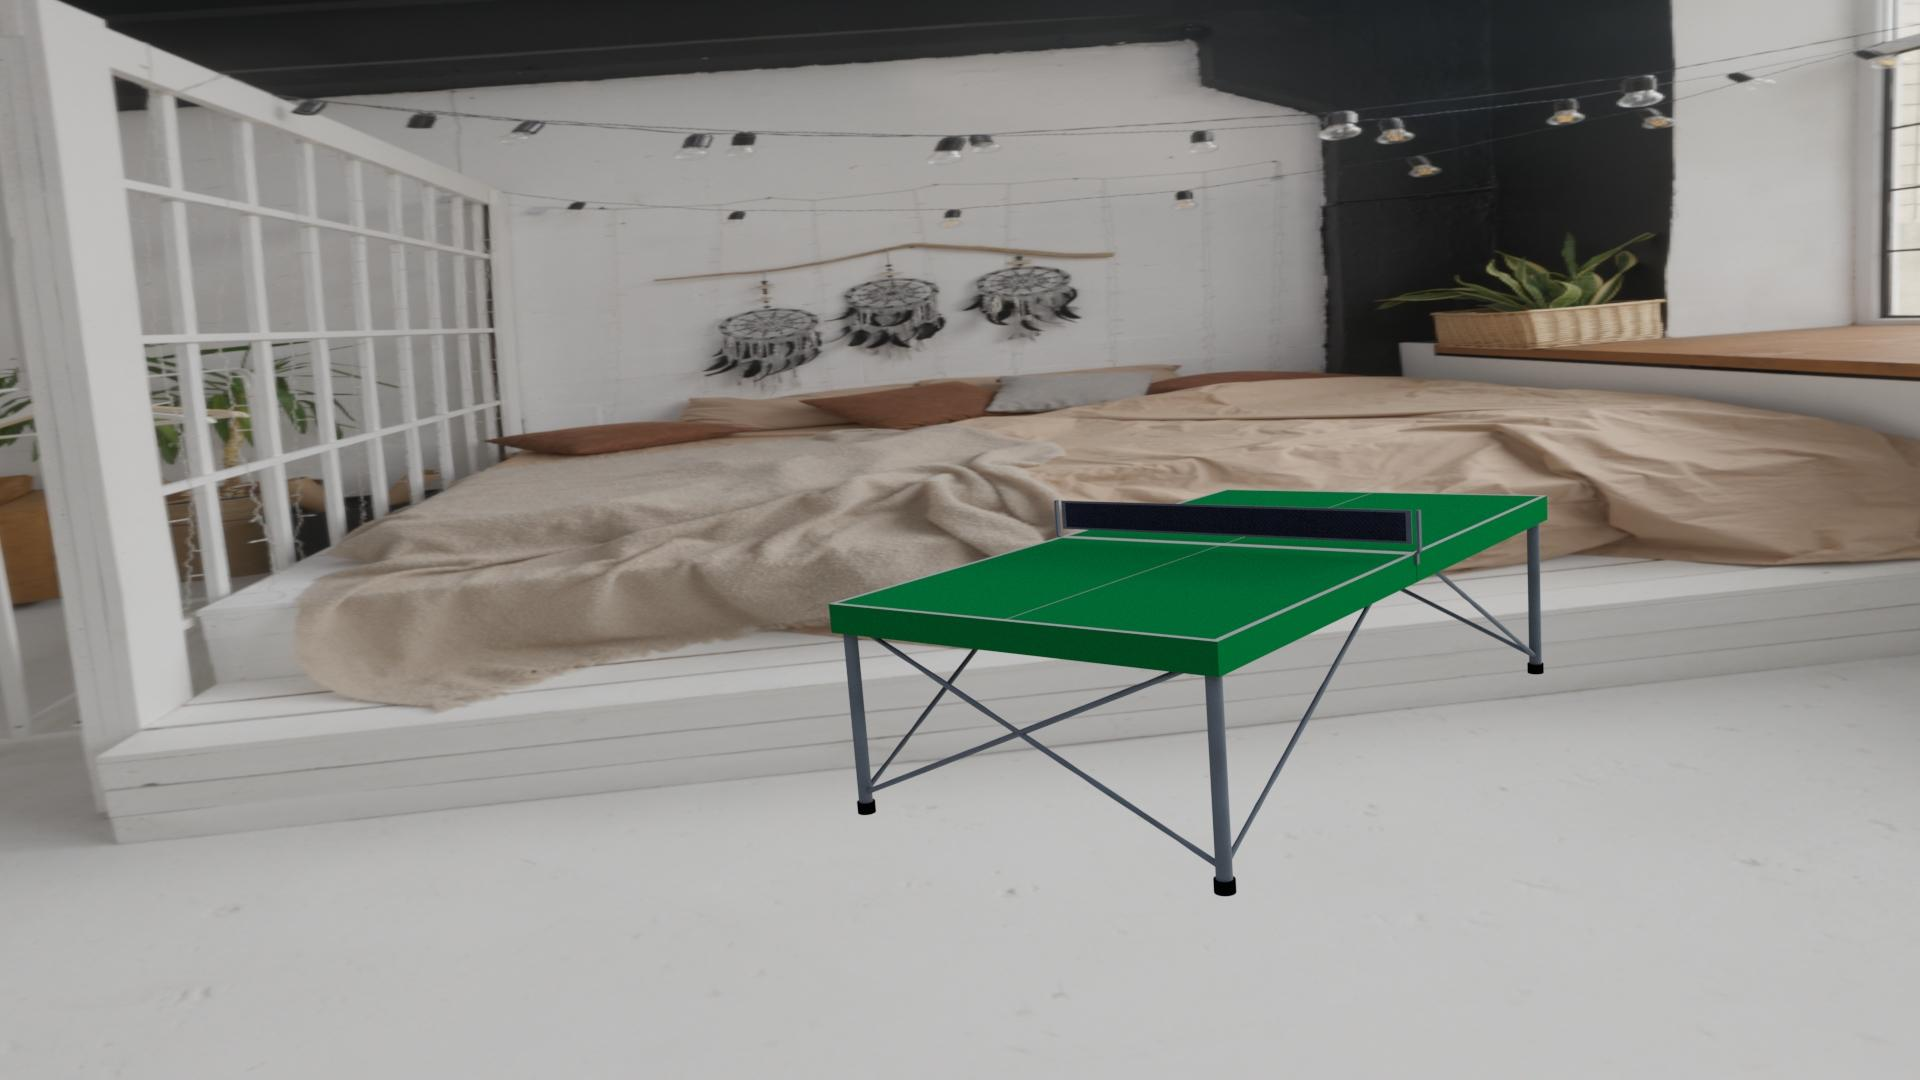table: (837, 489, 1540, 640)
